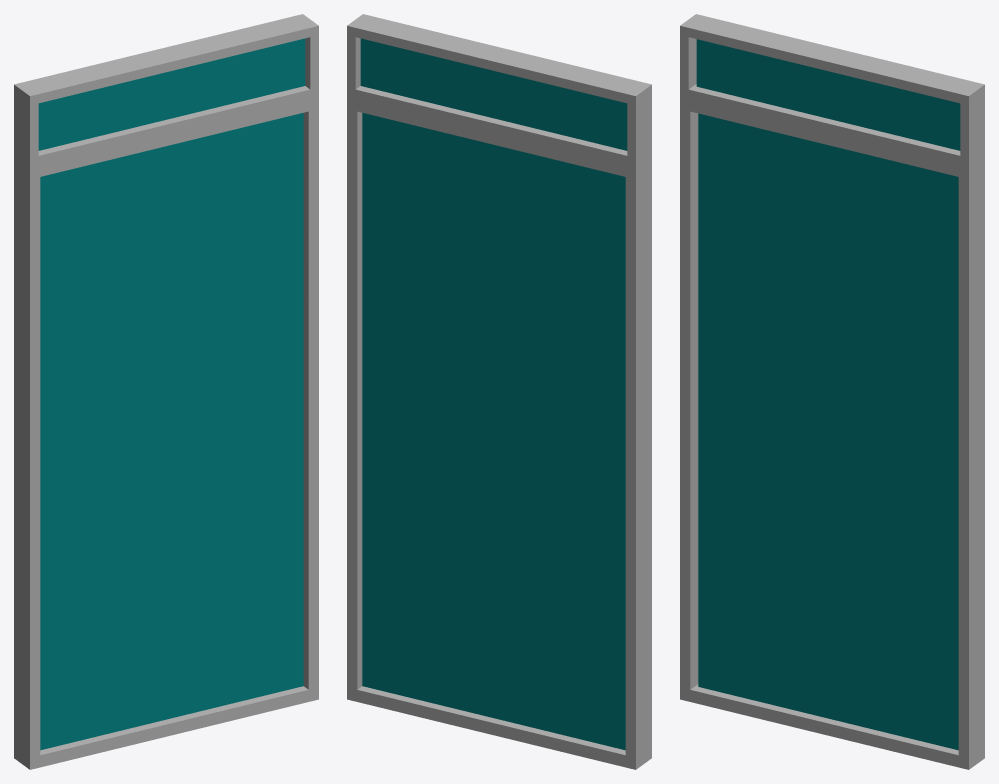
The model's file is Glass_Screen.fbx.
The picture shows the model from 3 angles, left to right: view 1: azimuth 30°, elevation 25°; view 2: azimuth 150°, elevation 25°; view 3: azimuth 330°, elevation 25°; orthographic projection.
Visible parts, largest first — view 1: Panel_Glass2, Panel_Frame3; view 2: Panel_Glass2, Panel_Frame3; view 3: Panel_Glass2, Panel_Frame3.
Boxes of the visible parts, x1=… form: Panel_Glass2: x1=38, y1=38, x2=305, y2=750; Panel_Frame3: x1=14, y1=14, x2=318, y2=769; Panel_Glass2: x1=360, y1=38, x2=627, y2=750; Panel_Frame3: x1=347, y1=14, x2=651, y2=769; Panel_Glass2: x1=696, y1=39, x2=960, y2=750; Panel_Frame3: x1=680, y1=14, x2=984, y2=769.
Bounding box in the file's own units: 90.78 × 202 × 8.75.
